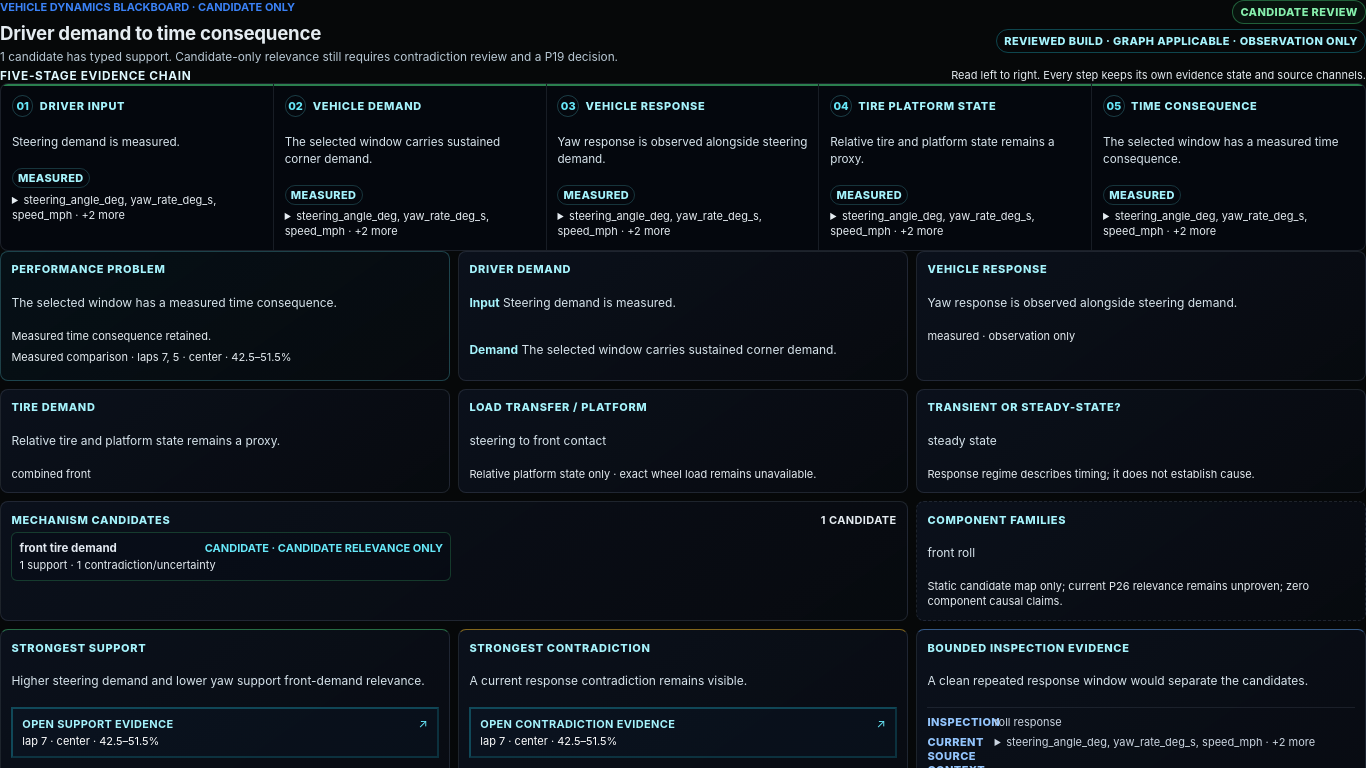
Test: VehicleDynamicsBlackboard › renders the complete compact Learning-mode reasoning surface without setup authority
The image size is (1366, 768).
Expected: the text "Candidate review" is shown, [1232,0,1365,24]
Expected: the text "reviewed build · graph applicable · observation only" is shown, [996,29,1365,53]
What coordinates should you click on to do the following:
click the heading "steering_angle_deg, yaw_rate_deg_s, speed_mph · +2 more" below "01"
I would click on:
 (114, 208)
Its box is [12,193,216,222].
(page scrolled)
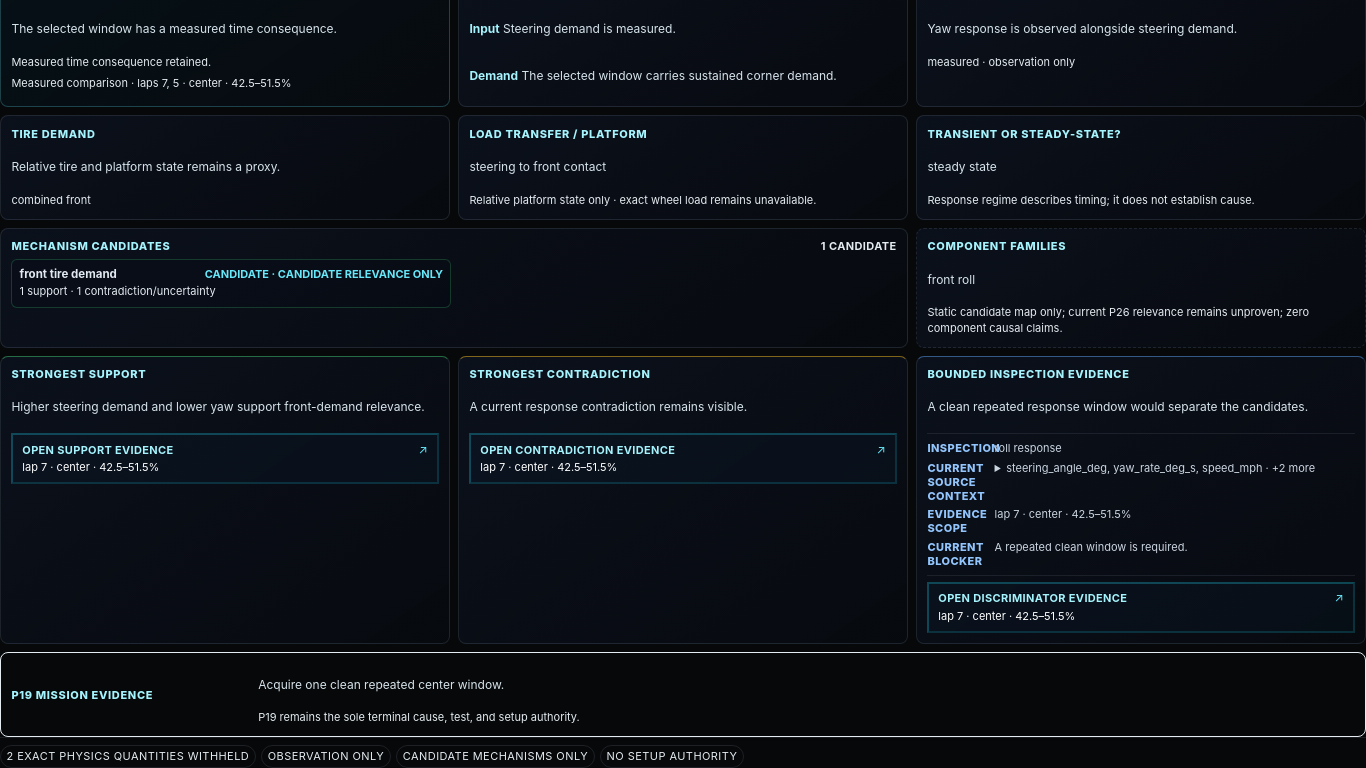
Expected: the text "Inspection" is shown, [927,441,988,456]
Expected: the text "roll response" is shown, [995,441,1062,455]
What coordinates should you click on to do the following:
click the heading "steering_angle_deg, yaw_rate_deg_s, speed_mph · +2 more"
I would click on:
 (1175, 468)
Its box is [995,461,1355,476].
(page scrolled)
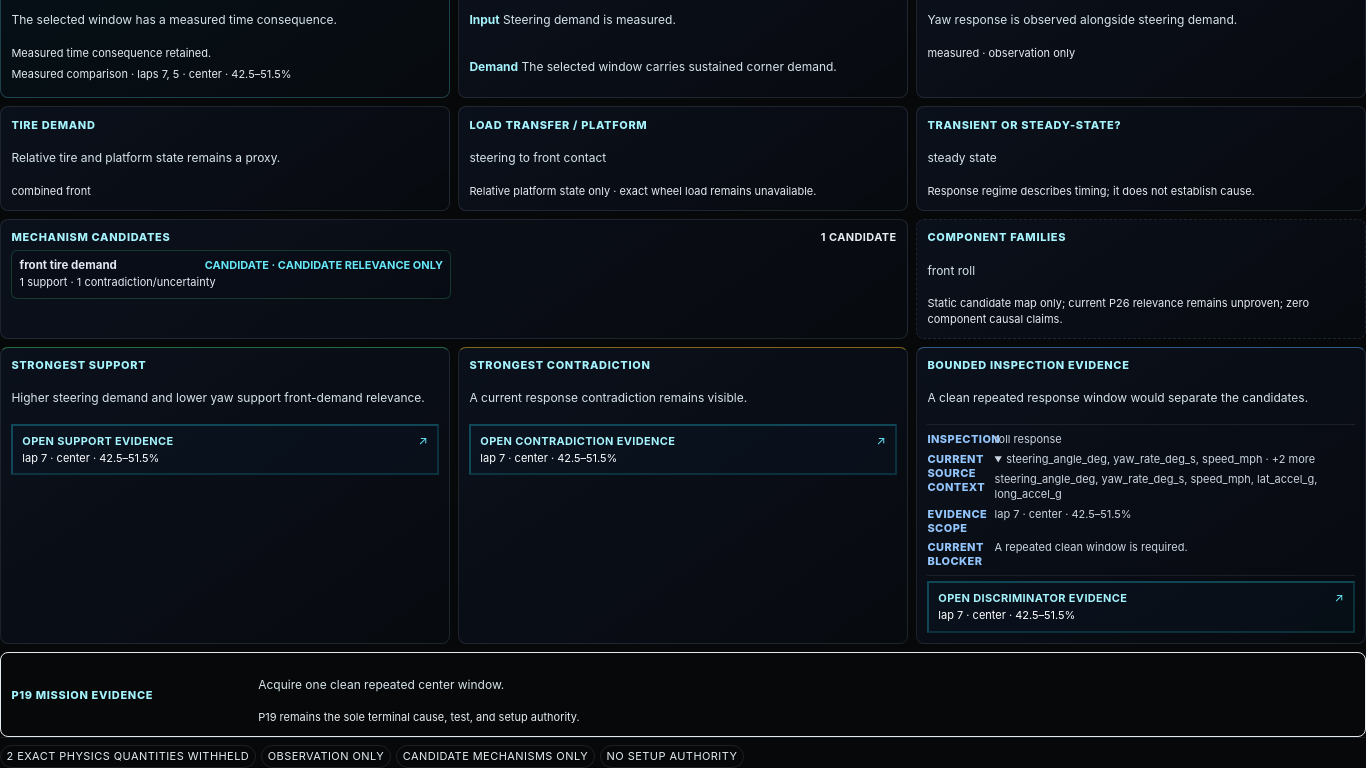
Expected: the footer named "Vehicle dynamics authority boundary" is shown, [0,737,1365,767]
Now the text "steering_angle_deg, yaw_rate_deg_s, speed_mph, lat_accel_g, long_accel_g" is shown, box [995,467,1355,503]
